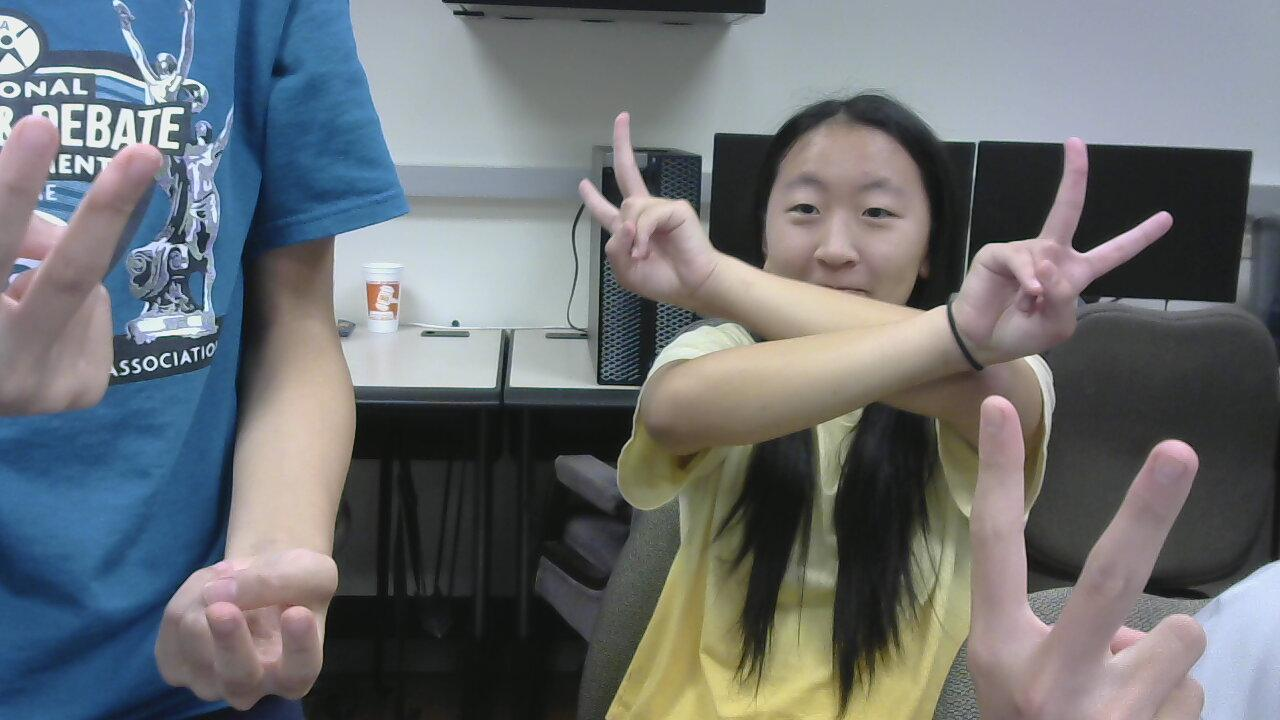peace: (929, 372, 1225, 720), (939, 140, 1187, 393), (0, 83, 179, 427), (542, 85, 740, 323), (137, 540, 377, 720)
